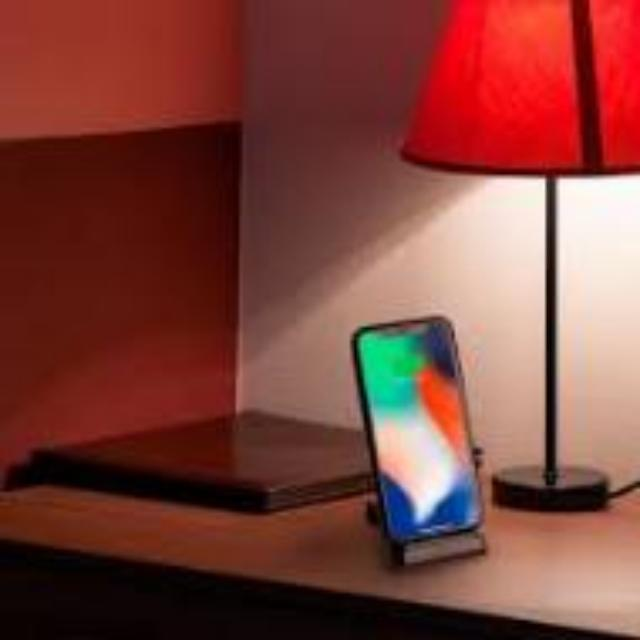phone: (327, 305, 511, 562)
